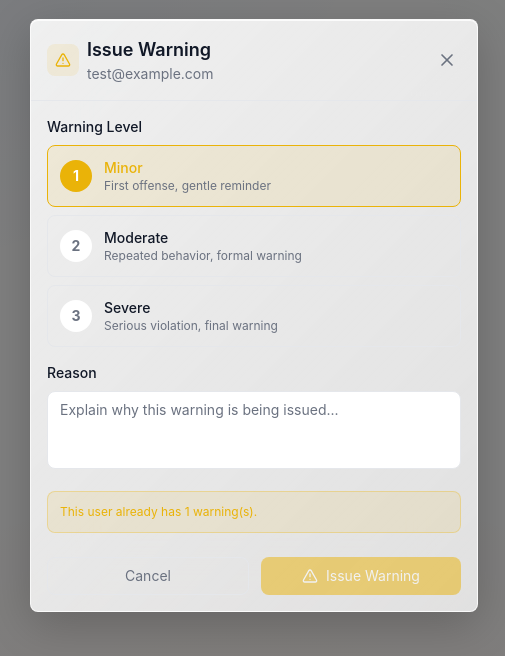
Test case: WarnUserModal › submit button is enabled when reason is provided
The width and height of the screenshot is (505, 656).
Type "Inappropriate content" into the text box with placeholder "Explain why this warning is being issued..." at {"x": 254, "y": 430}, box x1=47 y1=390 x2=461 y2=468
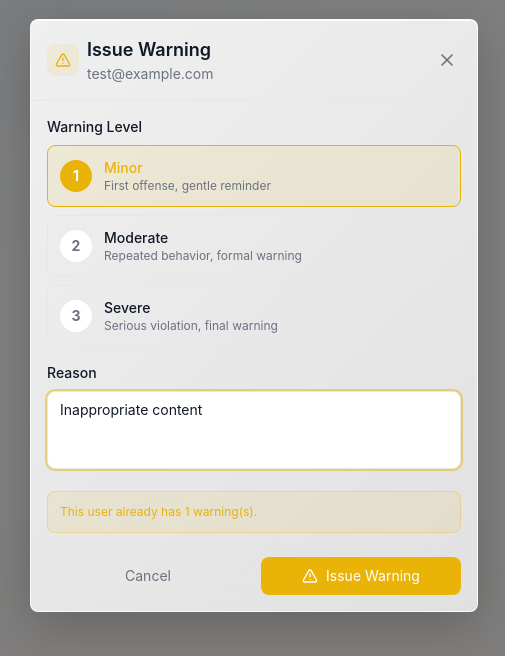
Expected: the button "Issue Warning" is enabled, x1=261 y1=556 x2=461 y2=594
